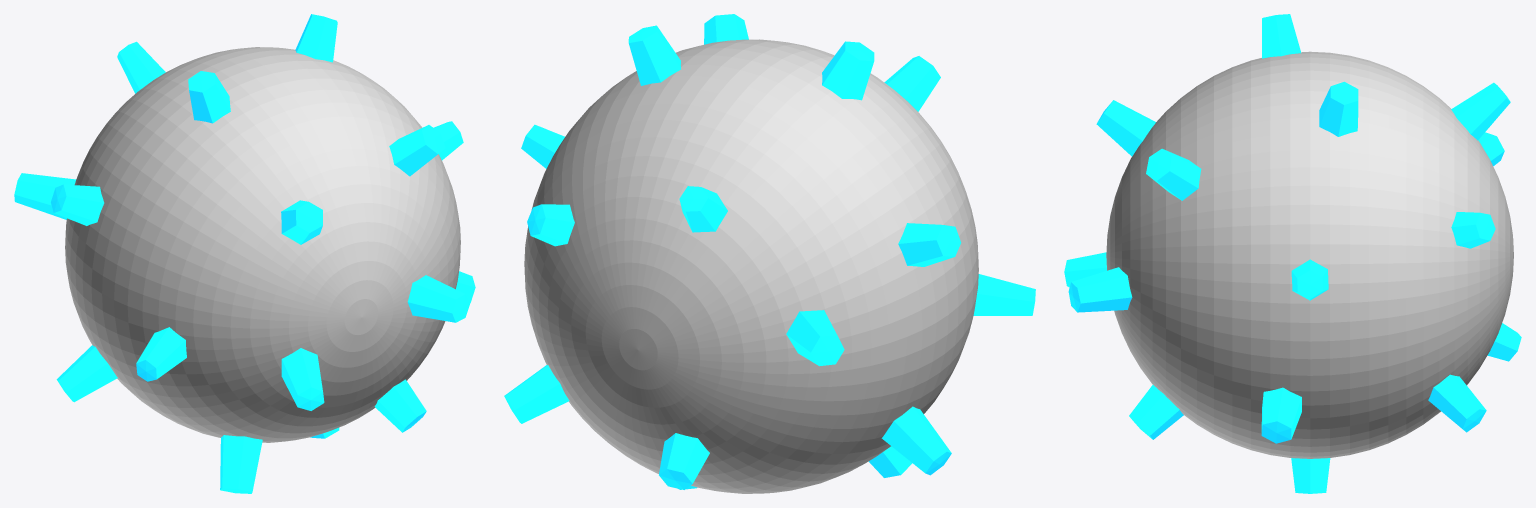
The model's file is rock.glb.
The picture shows the model from 3 angles, left to right: view 1: azimuth 30°, elevation 25°; view 2: azimuth 150°, elevation 25°; view 3: azimuth 270°, elevation 25°; orthographic projection. The views are drawn at different scales.
Parts seen in each view (by area): view 1: ball, spike; view 2: ball, spike; view 3: ball, spike.
Part boxes in pixels (<box>): ball: <box>65,47,460,442</box>; spike: <box>14,14,475,493</box>; ball: <box>524,39,978,493</box>; spike: <box>504,14,1035,489</box>; ball: <box>1106,51,1513,458</box>; spike: <box>1064,14,1521,493</box>.
Size of the model in its own units: 2.27 by 2.26 by 2.24.
